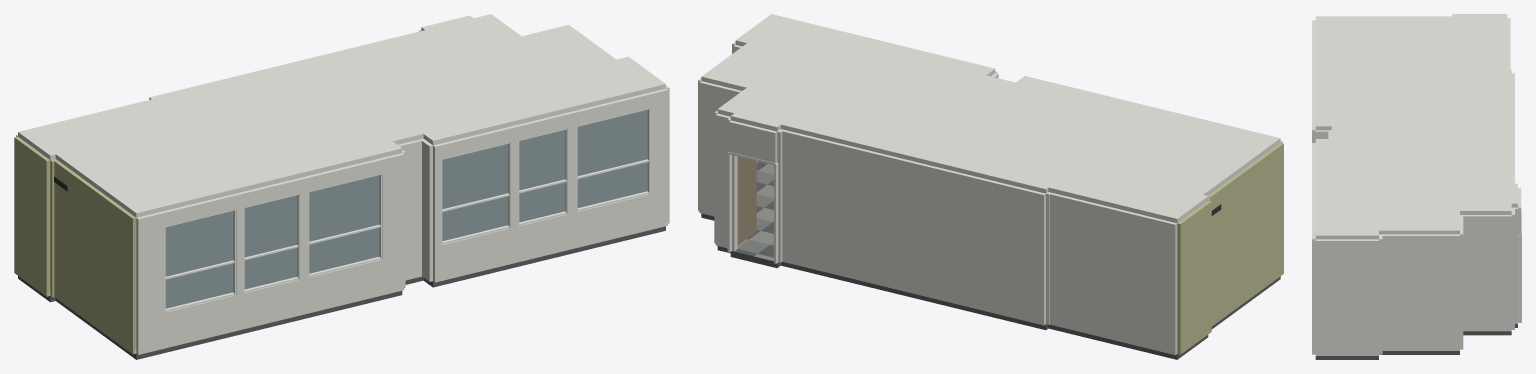
Rendered from ksw-102-interior-2605f0d3f558.glb.
3 views of the same model, side by side, from view 1: azimuth 30°, elevation 25°; view 2: azimuth 150°, elevation 25°; view 3: azimuth 270°, elevation 25° (orthographic). The views are drawn at different scales.
Visible parts, largest first — view 1: ksw-102; view 2: ksw-102; view 3: ksw-102.
Boxes of the visible parts, <box> form: ksw-102: <box>14,14,669,359</box>; ksw-102: <box>698,14,1283,359</box>; ksw-102: <box>1312,14,1521,359</box>.
Bounding box in the file's own units: 12.34 × 3.19 × 4.87.
